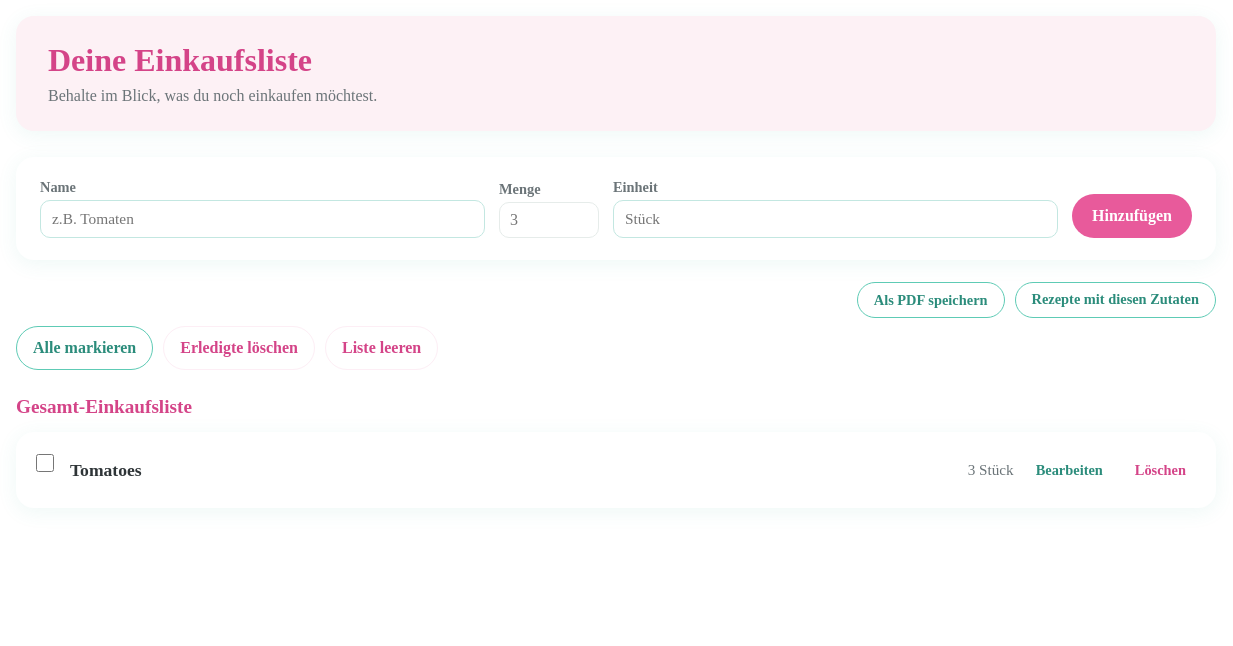
Test: ShoppingListView › shows not found message when update returns 404
Step 1. Click the button with class "edit-btn" → x=1069, y=470, box [1026,450,1113,490]
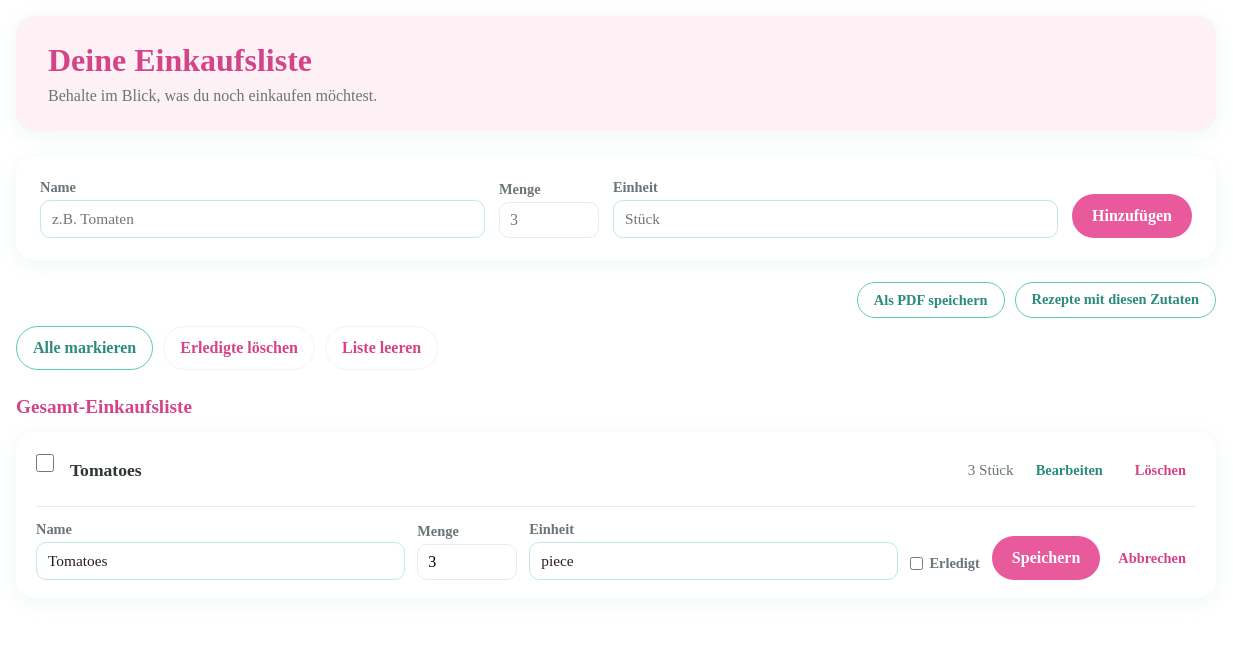
Step 2. Submit the form with class "edit-form", box [36,506,1196,580]
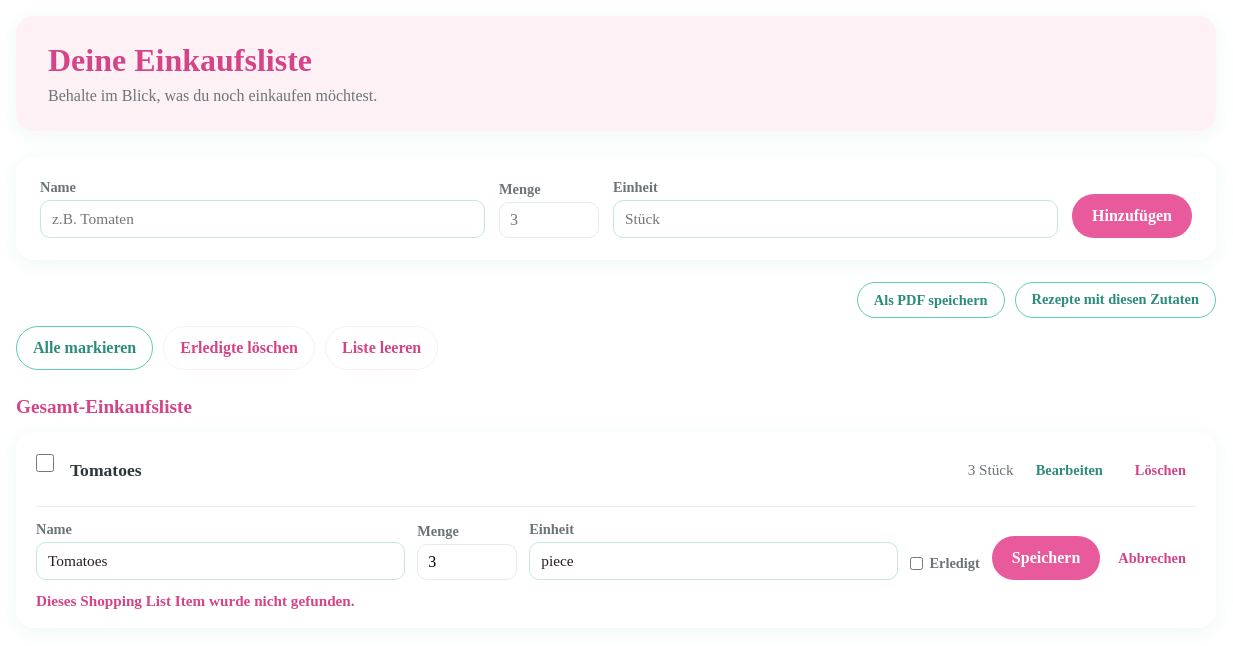
Result: the text "Dieses Shopping List Item wurde nicht gefunden." is shown at [36,592,355,609]
